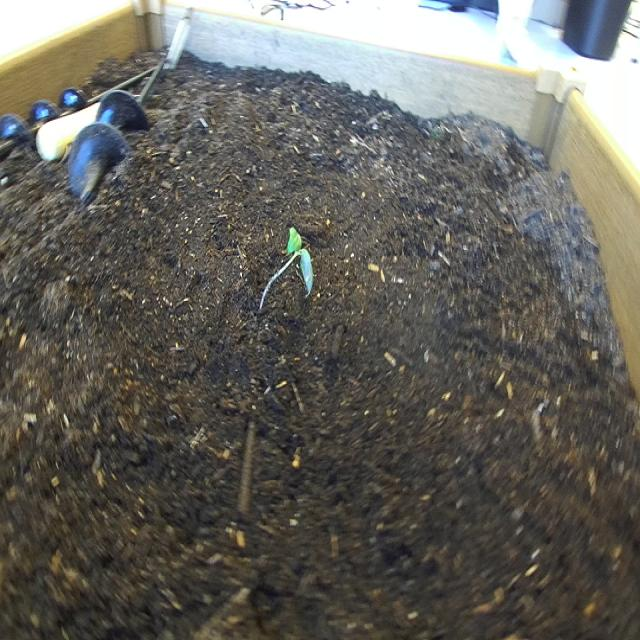Unhealthy: (246, 204, 326, 328)
